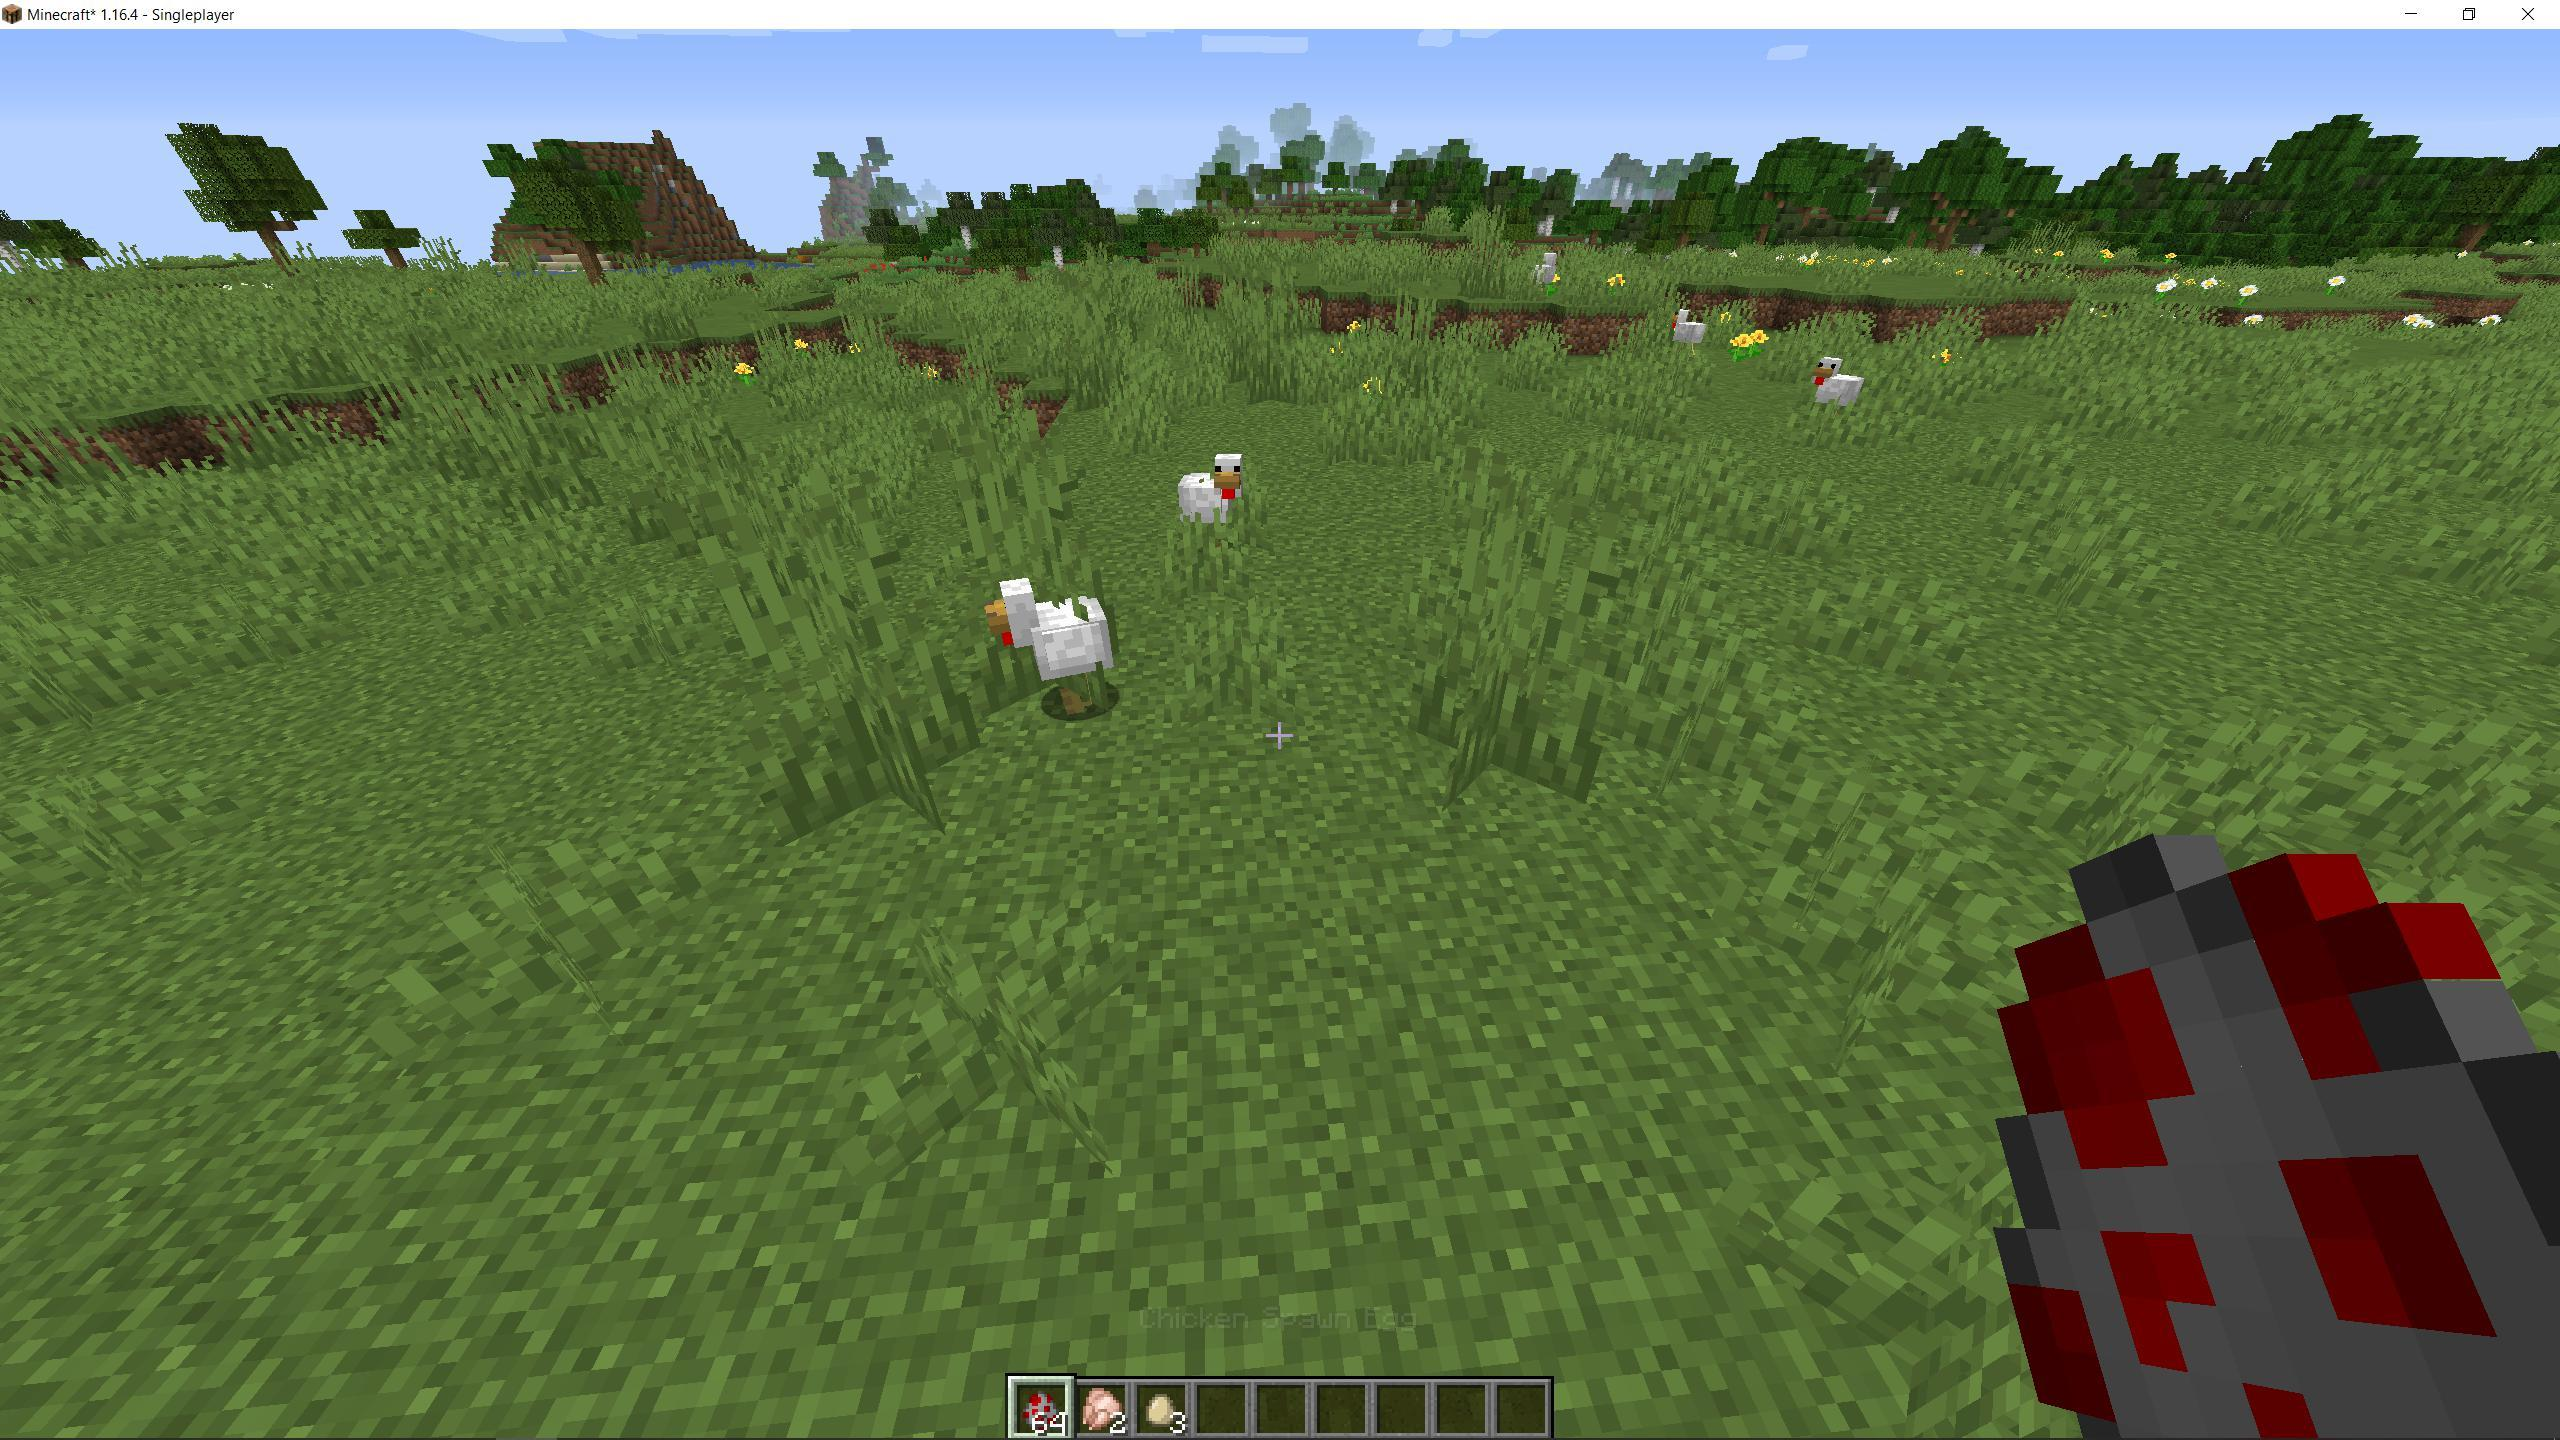chicken: (972, 570, 1136, 721), (1164, 454, 1262, 543), (1802, 348, 1878, 434)
